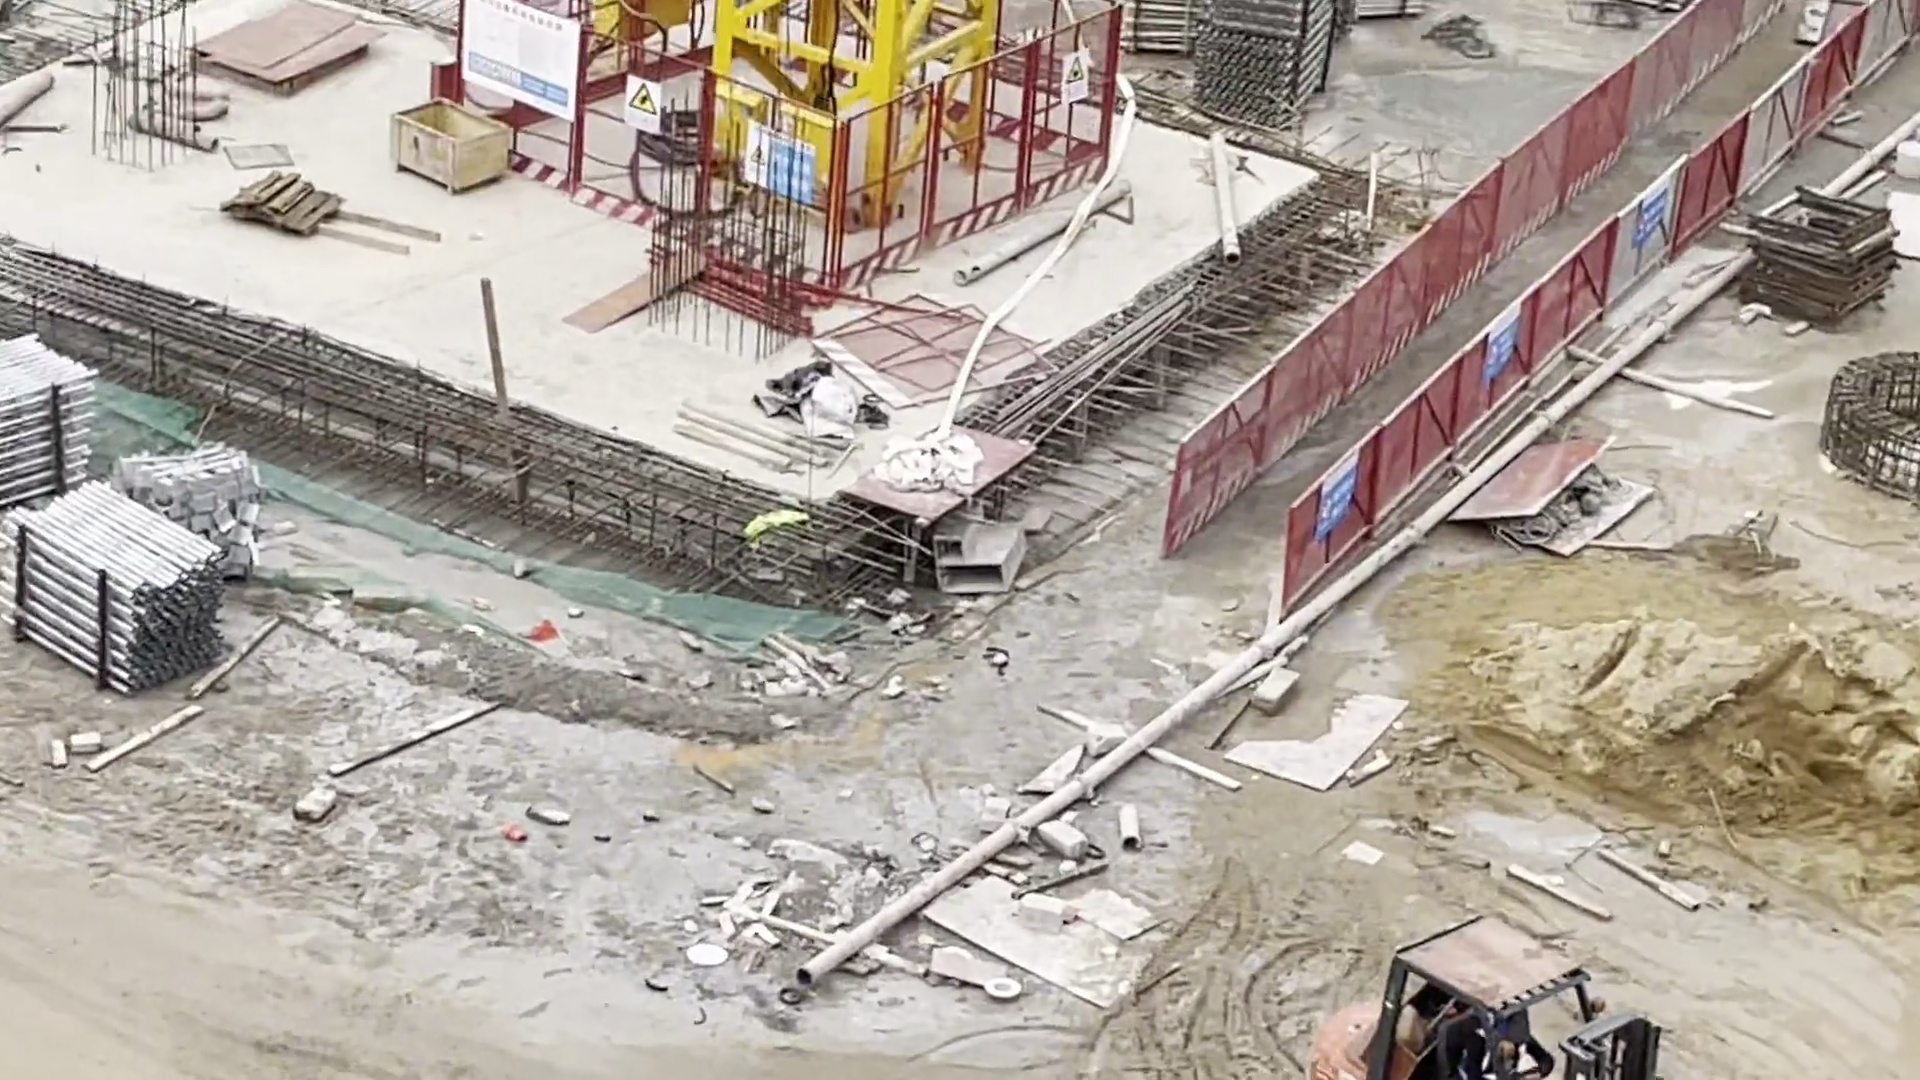ebox: (779, 102, 833, 191), (712, 78, 768, 161)
fence: (1161, 1, 1919, 624), (454, 1, 1124, 305)
hopper: (385, 97, 513, 193)
person: (1449, 1017, 1543, 1080)
scaffold: (2, 331, 225, 701), (1122, 1, 1331, 113)
slogan: (466, 1, 573, 110), (1320, 450, 1366, 547), (1474, 306, 1528, 384), (625, 65, 666, 136), (1635, 183, 1678, 251), (1055, 54, 1091, 109)
